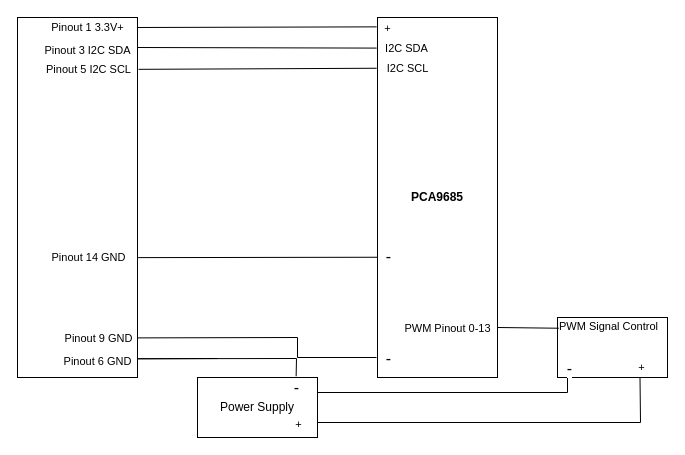
Some shapes in this 685 by 455 pixel diagram are drawn without their labels. Here are the shapes that lost their labels. From the top down, the centre of each, then its label:
At point (77, 197): "Raspberry Pi 4B".
At point (612, 347): "Servo Motors x14".
